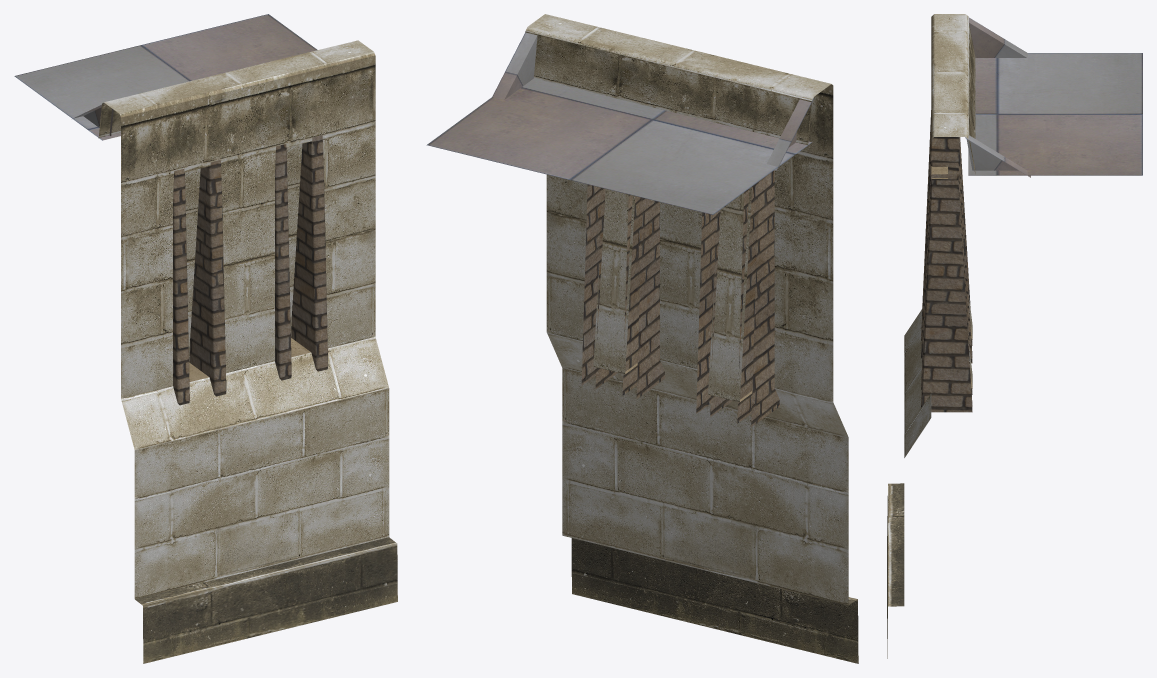
Rendered from castle-wall-w-deco-1.fbx.
3 renders of one model, left to right at view 1: azimuth 30°, elevation 25°; view 2: azimuth 150°, elevation 25°; view 3: azimuth 270°, elevation 25°, orthographic. The views are drawn at different scales.
Parts seen in each view (by area): view 1: castle-wall-w-deco-1; view 2: castle-wall-w-deco-1; view 3: castle-wall-w-deco-1.
Part boxes in pixels (bbox=[...]): castle-wall-w-deco-1: bbox=[14, 14, 397, 663]; castle-wall-w-deco-1: bbox=[426, 14, 858, 663]; castle-wall-w-deco-1: bbox=[887, 14, 1142, 658].
Bounding box in the file's own units: 200 × 400 × 176.
